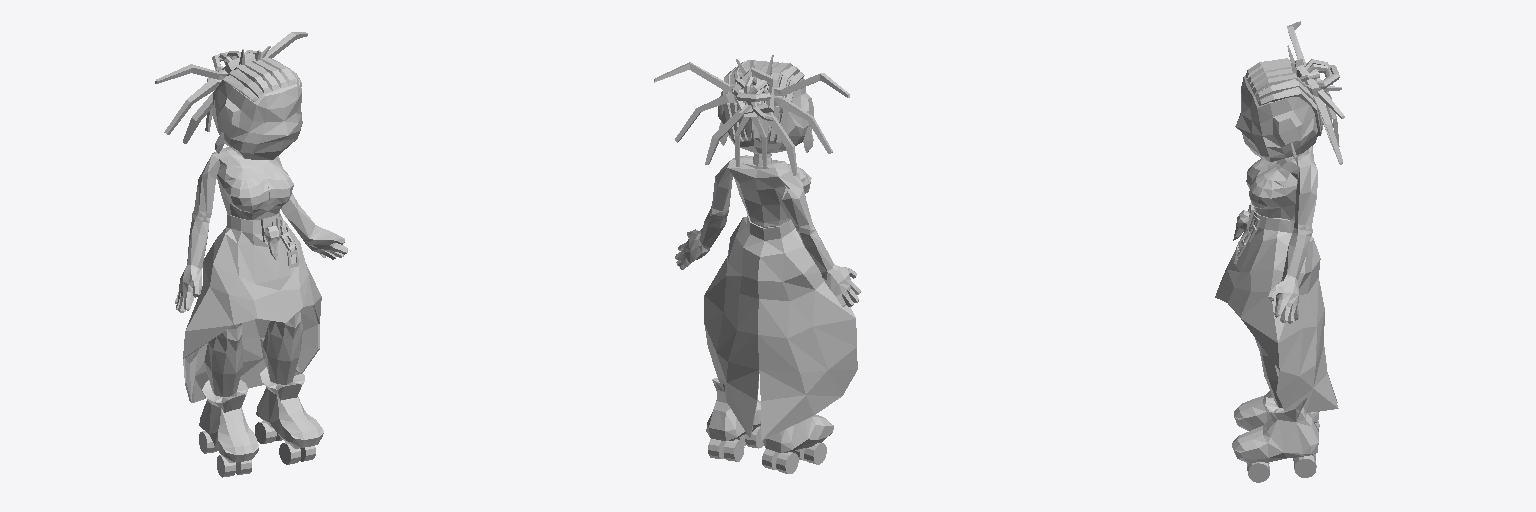
File: bruja_000078.obj
3 renders of one model, left to right at view 1: azimuth 30°, elevation 25°; view 2: azimuth 150°, elevation 25°; view 3: azimuth 270°, elevation 25°, orthographic.
Parts seen in each view (by area): view 1: Bruja_Plane.001; view 2: Bruja_Plane.001; view 3: Bruja_Plane.001.
Part boxes in pixels (left/top/right/bottom): Bruja_Plane.001: left=155, top=32, right=347, bottom=477; Bruja_Plane.001: left=654, top=55, right=860, bottom=473; Bruja_Plane.001: left=1215, top=21, right=1344, bottom=482.
Size of the model in its own units: 7.64 by 16.52 by 4.73.